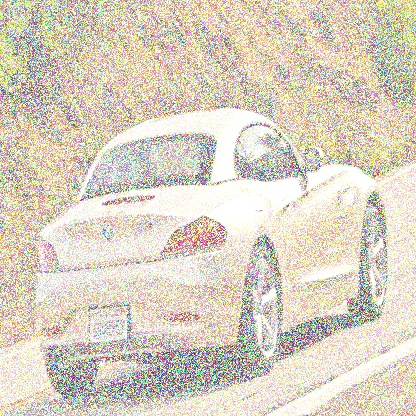Vehicle: (37, 107, 388, 398)
